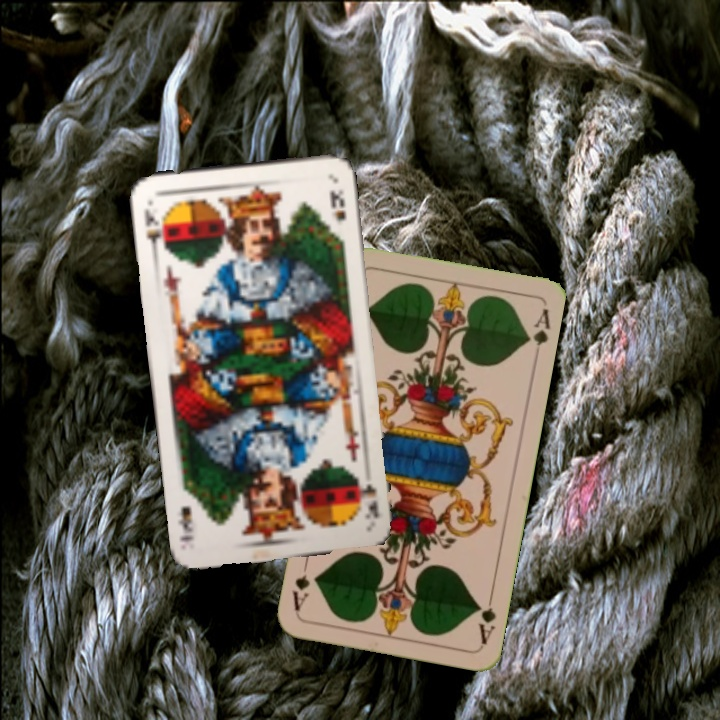GA: (473, 587, 499, 646)
SK: (140, 197, 169, 256), (355, 471, 383, 522)
